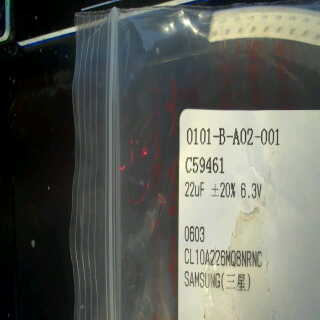22uF: (178, 180, 210, 200)
